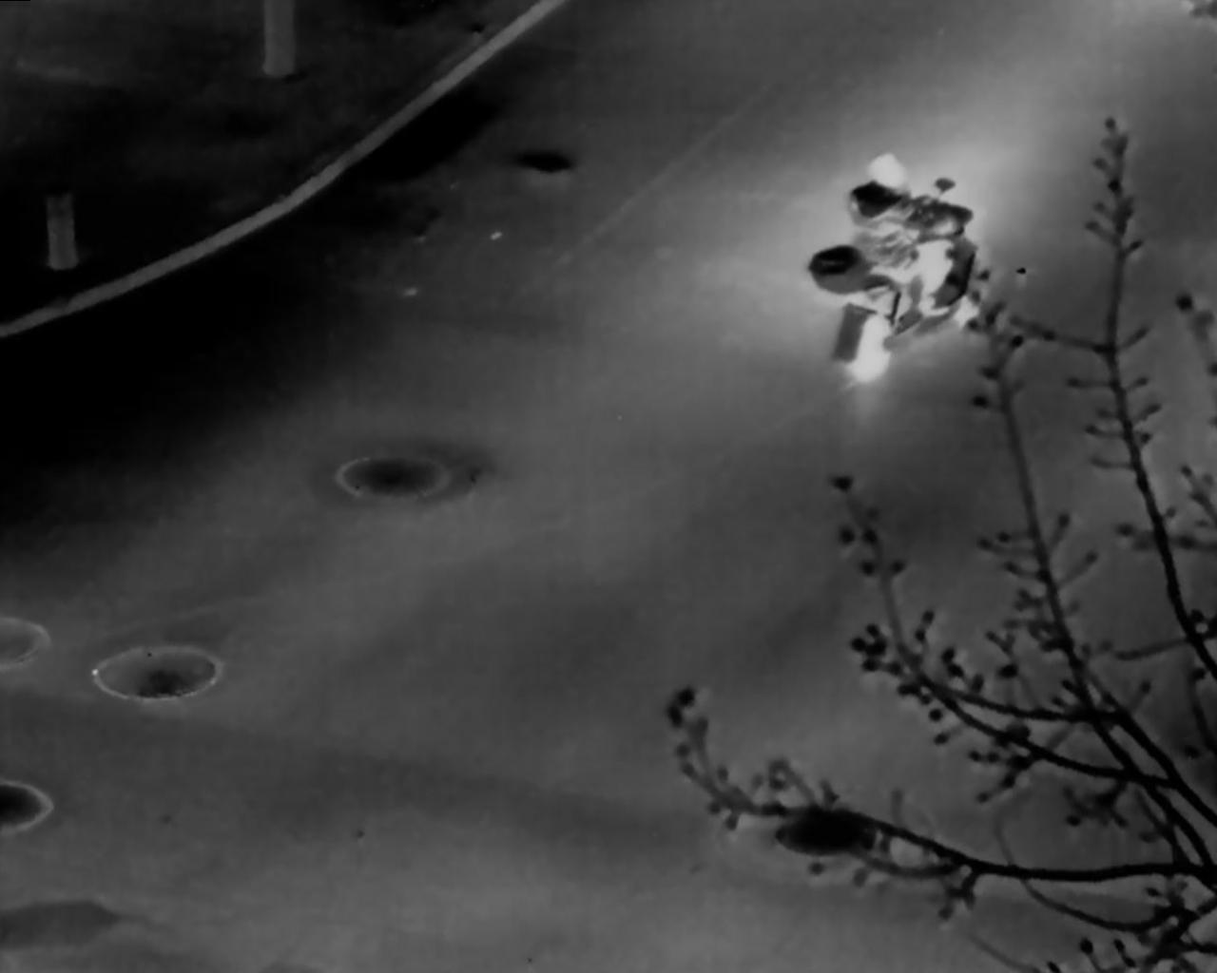person: (844, 150, 956, 320)
